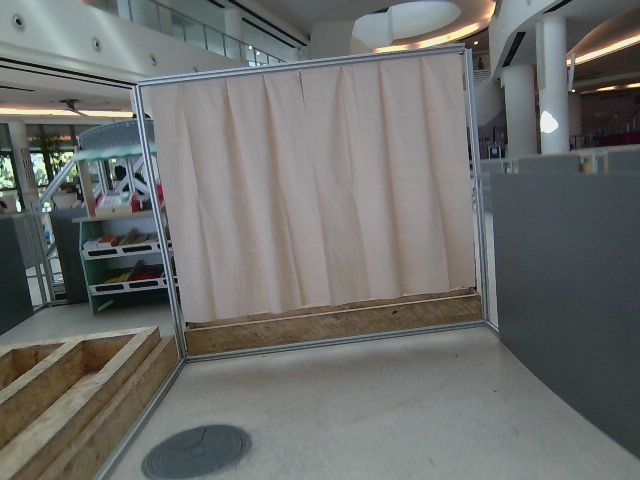curtain: (128, 38, 480, 350)
